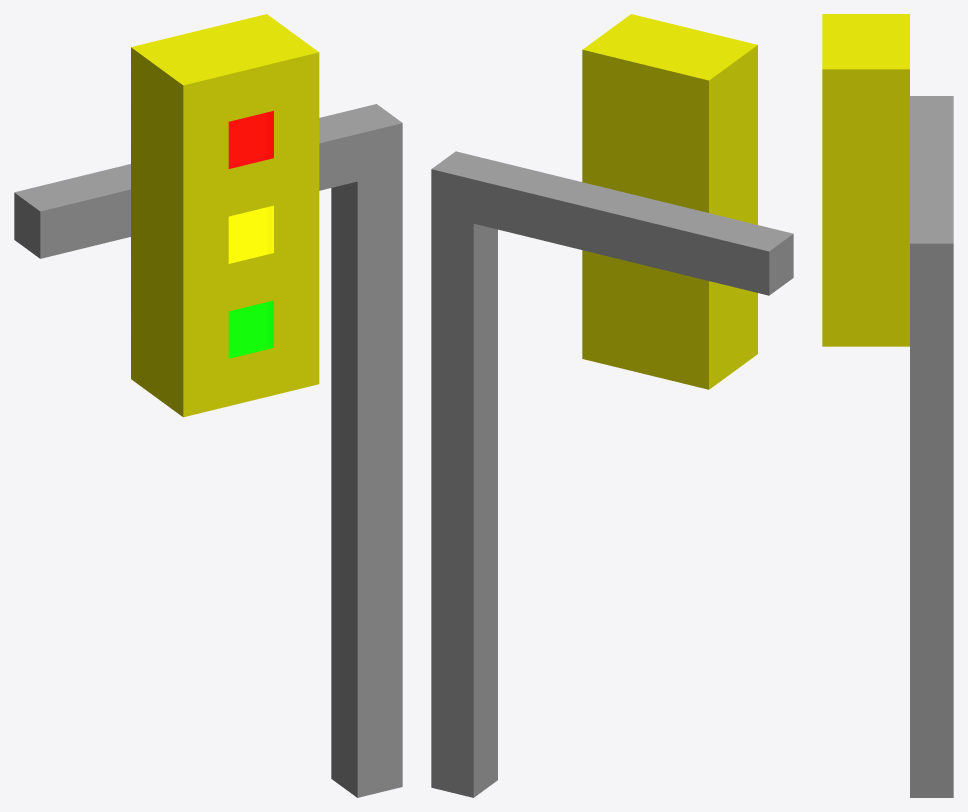
The model's file is traffic_light.glb.
The picture shows the model from 3 angles, left to right: view 1: azimuth 30°, elevation 25°; view 2: azimuth 150°, elevation 25°; view 3: azimuth 270°, elevation 25°; orthographic projection. The views are drawn at different scales.
Parts seen in each view (by area): view 1: Object_3, Object_2, Object_4, Object_5, Object_6; view 2: Object_2, Object_3; view 3: Object_2, Object_3.
Boxes of the visible parts, left/top/right/bottom form: Object_3: left=131, top=14, right=319, bottom=417; Object_2: left=14, top=104, right=402, bottom=797; Object_4: left=228, top=300, right=273, bottom=358; Object_5: left=228, top=205, right=273, bottom=263; Object_6: left=228, top=111, right=273, bottom=168; Object_2: left=431, top=151, right=793, bottom=797; Object_3: left=582, top=14, right=757, bottom=389; Object_2: left=910, top=96, right=953, bottom=797; Object_3: left=822, top=14, right=909, bottom=346.
Bounding box in the file's own units: 12 × 25.5 × 4.5.
